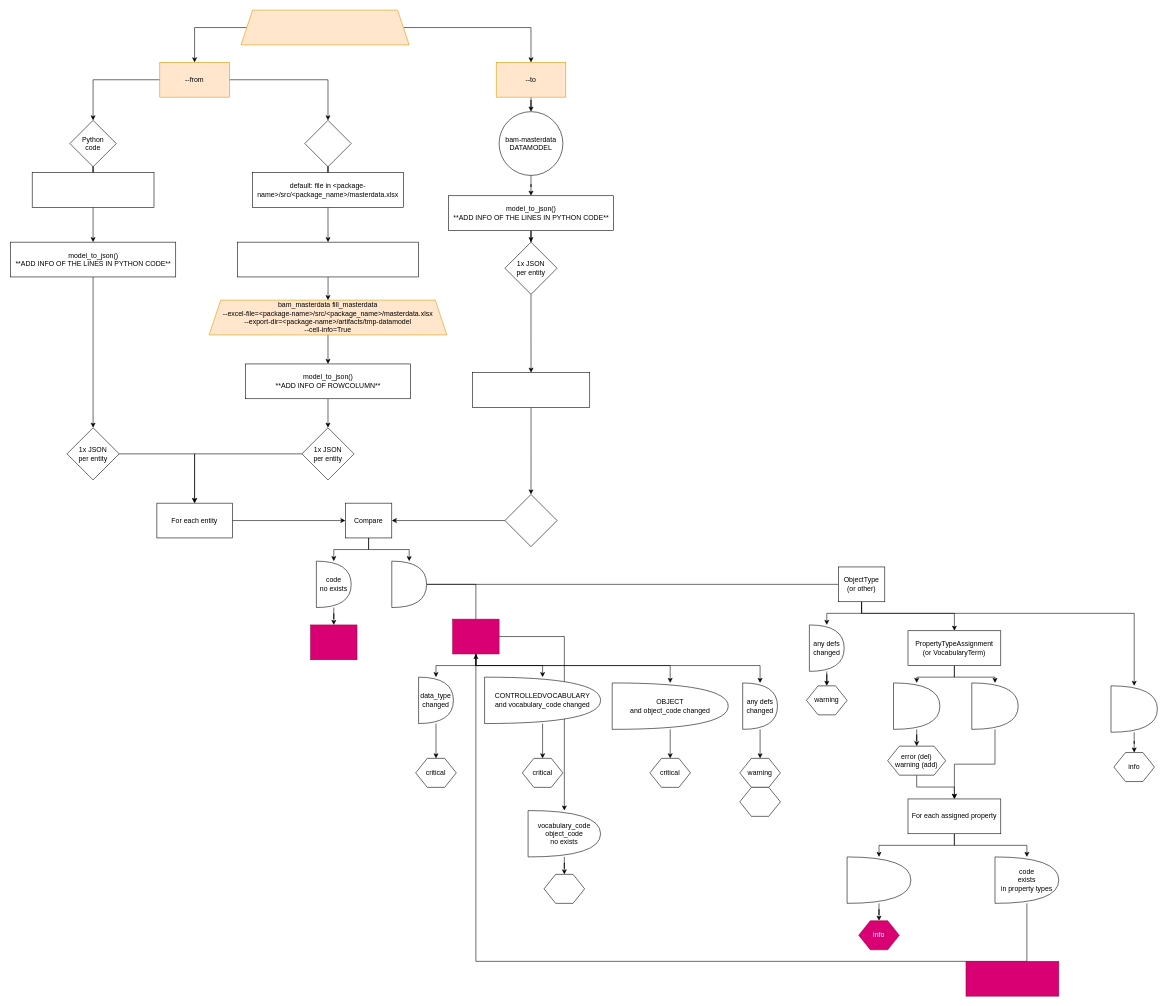
Some shapes in this 1168 by 1006 pixel diagram are drawn without their labels. The centre of each missing label's shape, as x and y in pixels:
**ADD INFO OF ROW/COLUMN FOR EACH CLASS**: the point at 328,259
Add all JSON into one dictionary: the point at 531,389
bam_masterdata checker --from=... --to=...: the point at 324,27
bug: assigned properties do not have vocabulary_code or object_code: the point at 1012,978
code exists: the point at 409,584
code no exists in property types: the point at 879,879
default: all modules in <package-name>/src/<package_name>/*.py: the point at 93,189
error: the point at 564,888
error (for assigned): the point at 759,801
Excel file: the point at 327,143
JSONS: the point at 530,520
list props code changed (del or add): the point at 916,705
list props code no changed: the point at 994,705
list props coincide with other object list: the point at 1133,708
Pass: the point at 333,642
PropertyType: the point at 475,636
